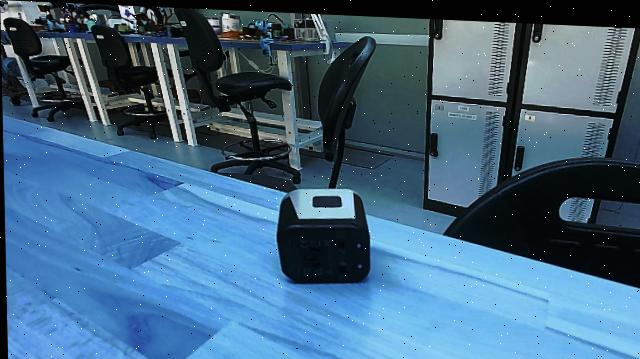adapter: (272, 172, 368, 286)
